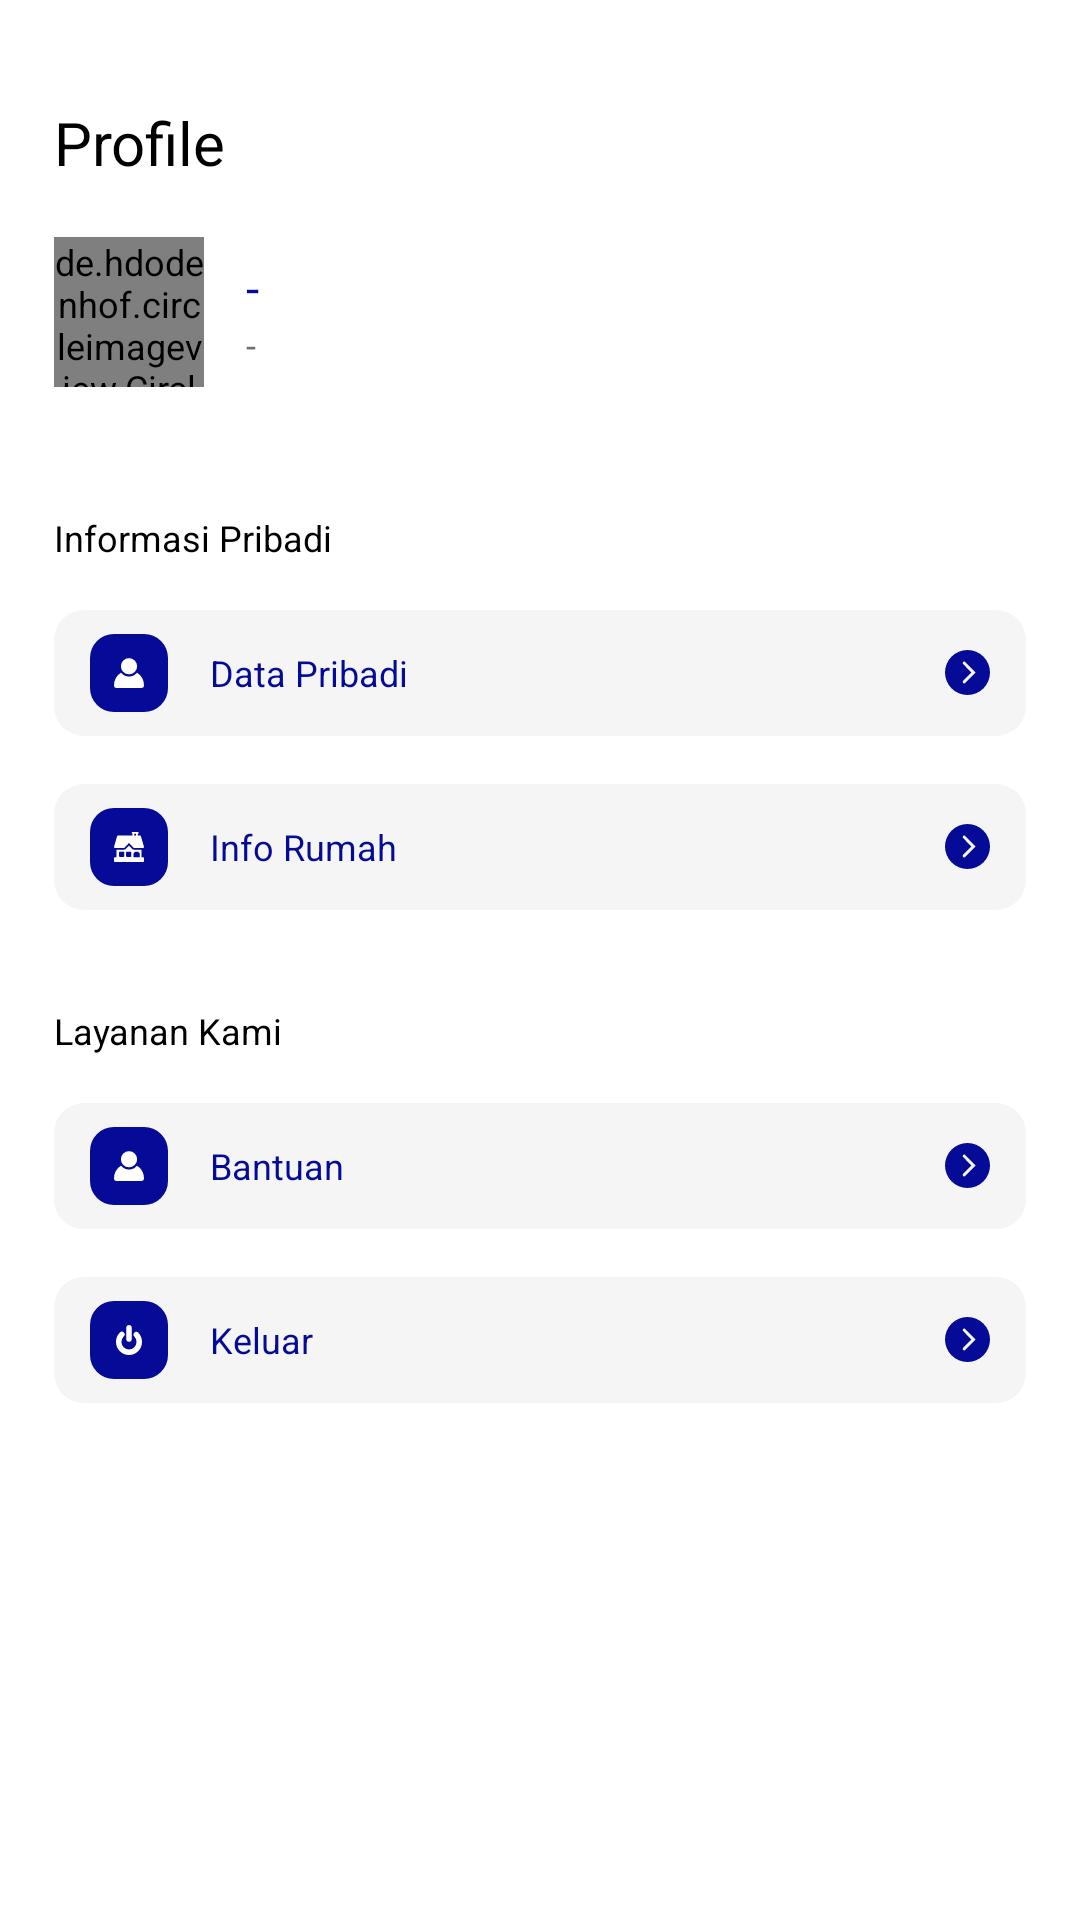

Locate icon controls on the screen. Image size 1080×1920, boxes as {"x1": x1, "y1": y1, "x2": x2, "y2": y2}.
mini profile: {"x1": 114, "y1": 658, "x2": 144, "y2": 688}, {"x1": 114, "y1": 1151, "x2": 144, "y2": 1181}
mini rumah: {"x1": 114, "y1": 832, "x2": 144, "y2": 862}
next: {"x1": 945, "y1": 650, "x2": 990, "y2": 695}, {"x1": 945, "y1": 824, "x2": 990, "y2": 869}, {"x1": 945, "y1": 1143, "x2": 990, "y2": 1188}, {"x1": 945, "y1": 1317, "x2": 990, "y2": 1362}
